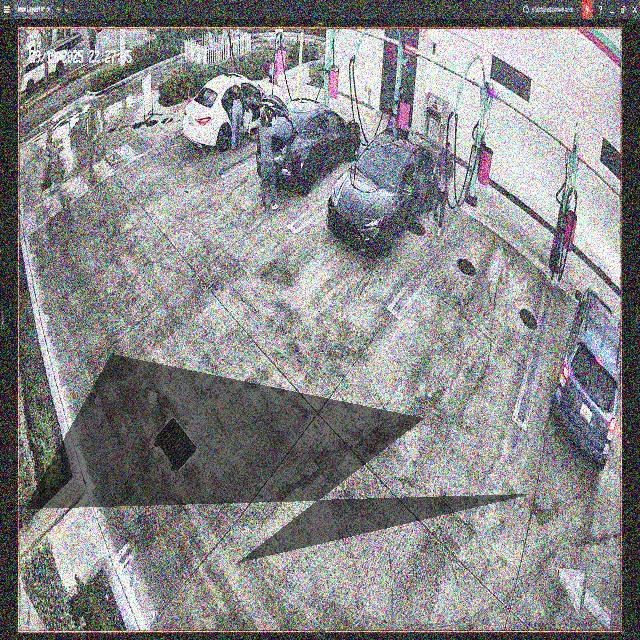Car: (328, 126, 443, 255), (258, 94, 360, 192), (181, 73, 286, 154)
